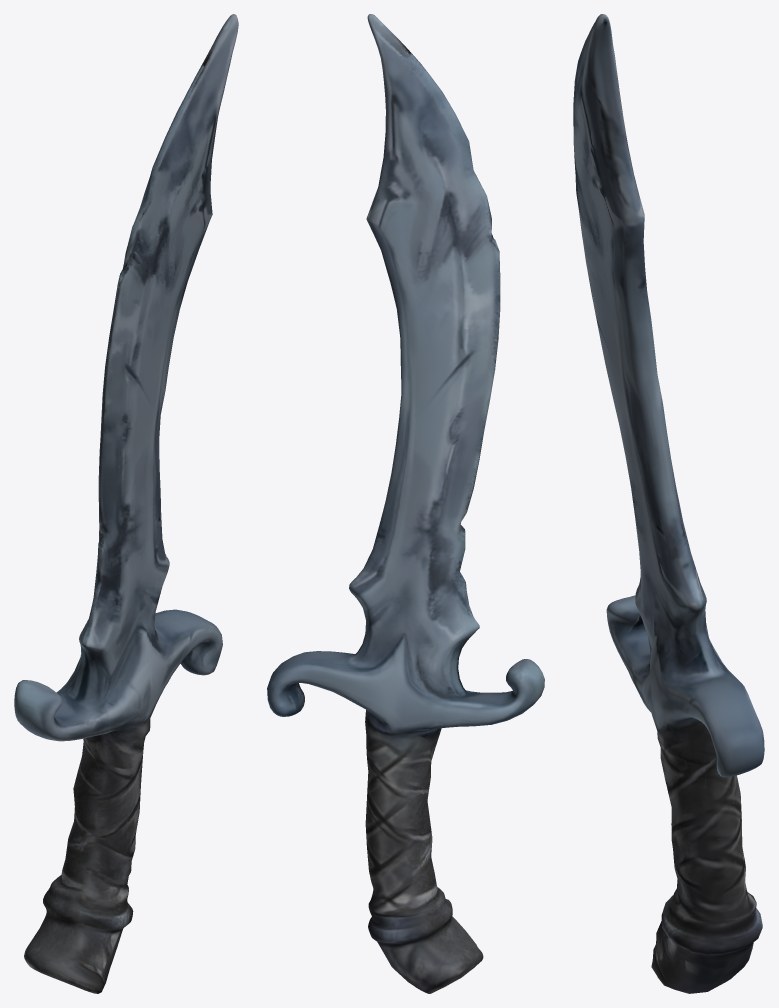
Rendered from steel_scim.glb.
3 views of the same model, side by side, from view 1: azimuth 30°, elevation 25°; view 2: azimuth 150°, elevation 25°; view 3: azimuth 270°, elevation 25° (orthographic). The views are drawn at different scales.
Parts seen in each view (by area): view 1: steel_scim_mesh; view 2: steel_scim_mesh; view 3: steel_scim_mesh.
Part boxes in pixels (x1,y1,x2,y2): steel_scim_mesh: (14,14,238,993); steel_scim_mesh: (267,14,544,993); steel_scim_mesh: (573,14,764,993).
Bounding box in the file's own units: 0.593 × 2.27 × 0.381.
Materials: 1 (1 with a texture image).
